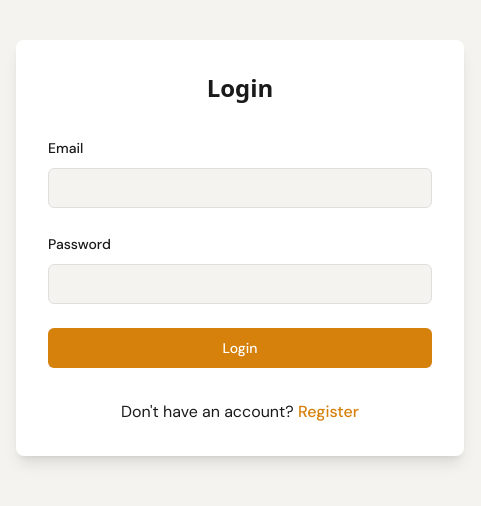
Scenario: LoginPage › shows "Invalid credentials" on 401 response
Type "bad@test.com" into the field labelled "Email" at (240, 188), box [48,168,432,208]
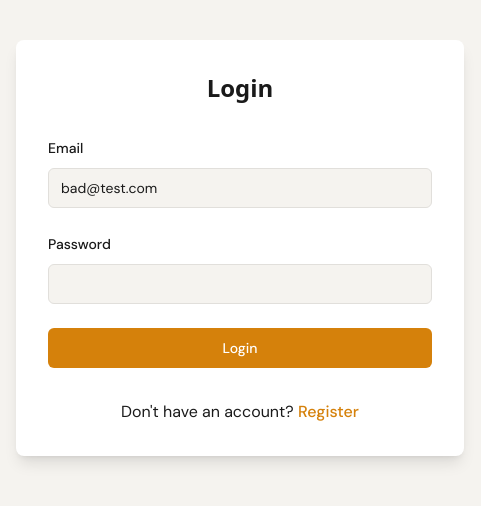
Type "wrong" into the password field labelled "Password" at (240, 284), box [48,264,432,304]
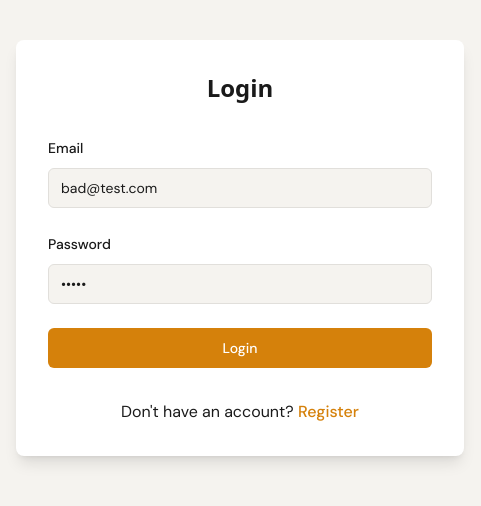
Click the button "Login" at (240, 348), box [48,328,432,368]
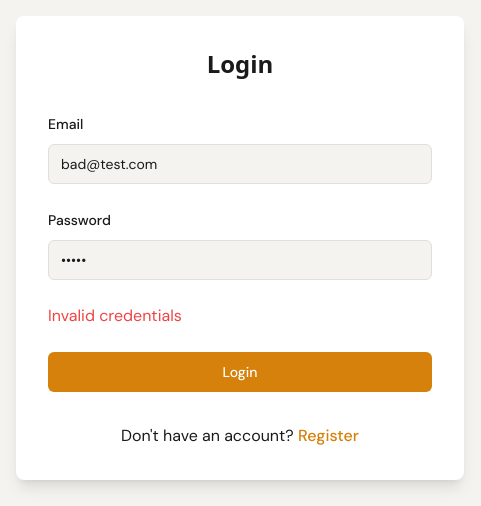
Result: the text "Invalid credentials" is shown at [48,305,182,326]
